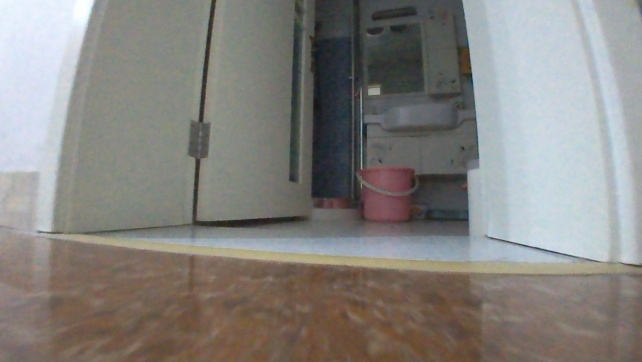door_anno: (155, 0, 321, 229)
